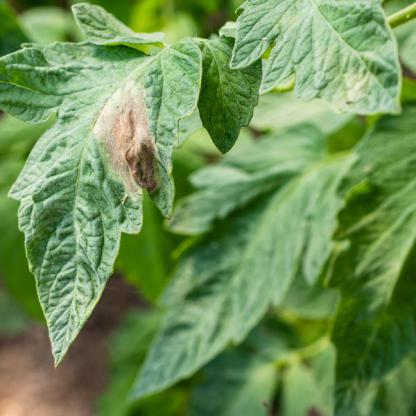tomato leaf late blight: (1, 2, 206, 374), (229, 3, 412, 121)
